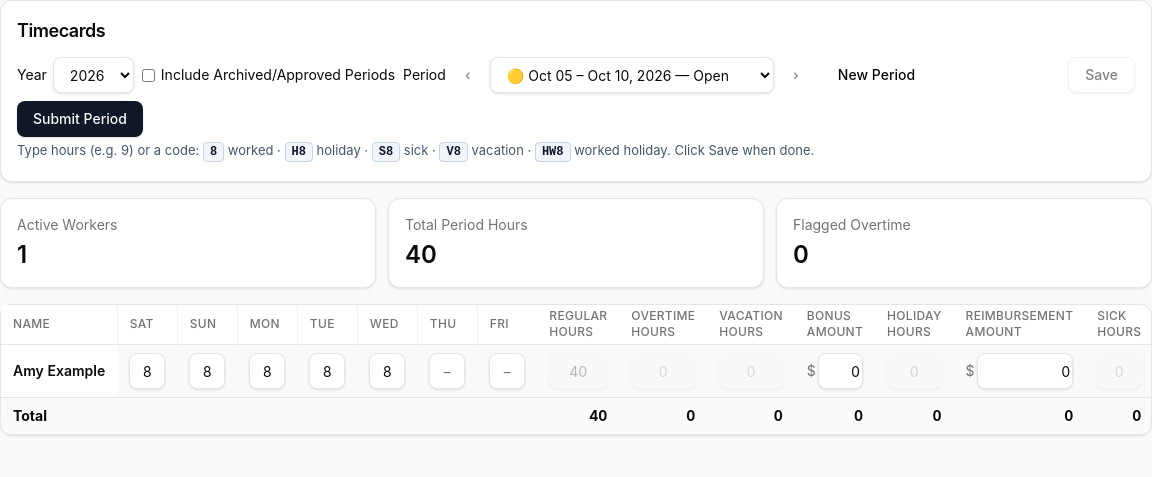
Test: TimecardPage (Stage A) › accepts numeric hours and recomputes from real hours
This screenshot has width=1152, height=477.
Expected: the text "Amy Example" is shown, [1,344,117,398]
Replace the text in the field named "day-1-2026-10-05" with "9" at (147, 371), box [129,353,165,389]
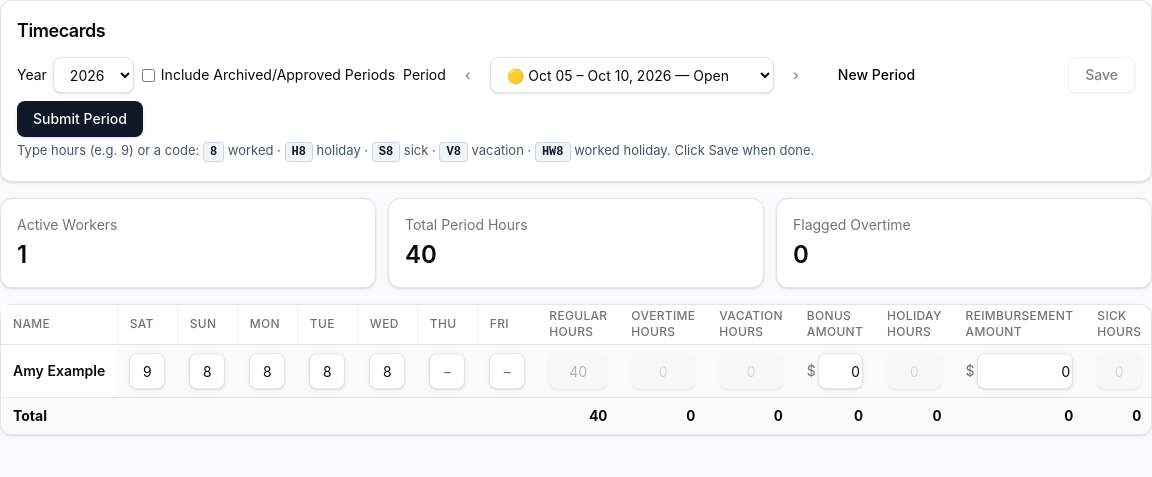
Press Enter in the field named "day-1-2026-10-05", box [129,353,165,389]
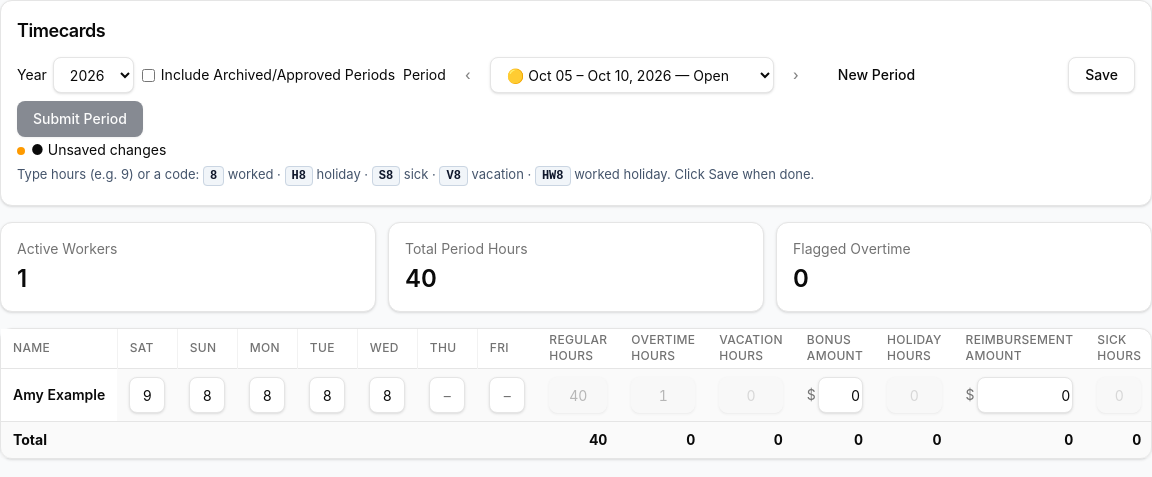
Expected: the text "● Unsaved changes" is shown, [17,141,166,158]
